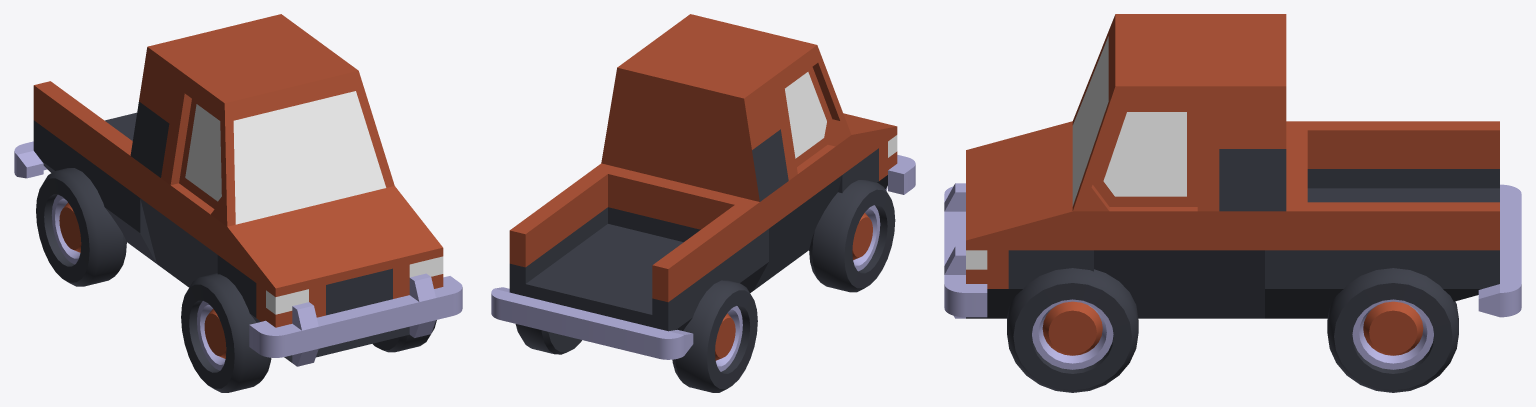
The model's file is OrangePickup.fbx.
3 views of the same model, side by side, from view 1: azimuth 30°, elevation 25°; view 2: azimuth 150°, elevation 25°; view 3: azimuth 270°, elevation 25° (orthographic). The views are drawn at different scales.
Parts seen in each view (by area): view 1: mergedBlocks; view 2: mergedBlocks; view 3: mergedBlocks.
Boxes of the visible parts, <box> form: mergedBlocks: <box>14,14,462,392</box>; mergedBlocks: <box>491,14,915,392</box>; mergedBlocks: <box>944,14,1521,392</box>.
Bounding box in the file's own units: 12.16 × 15.08 × 27.
